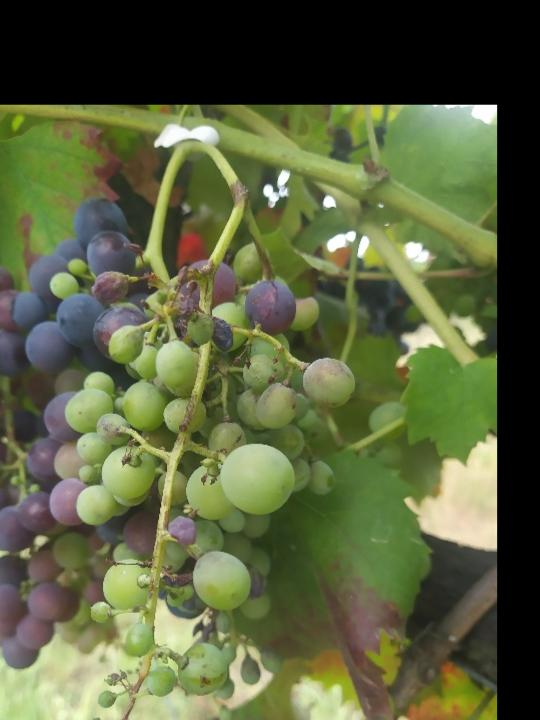grape: (61, 255, 360, 720)
